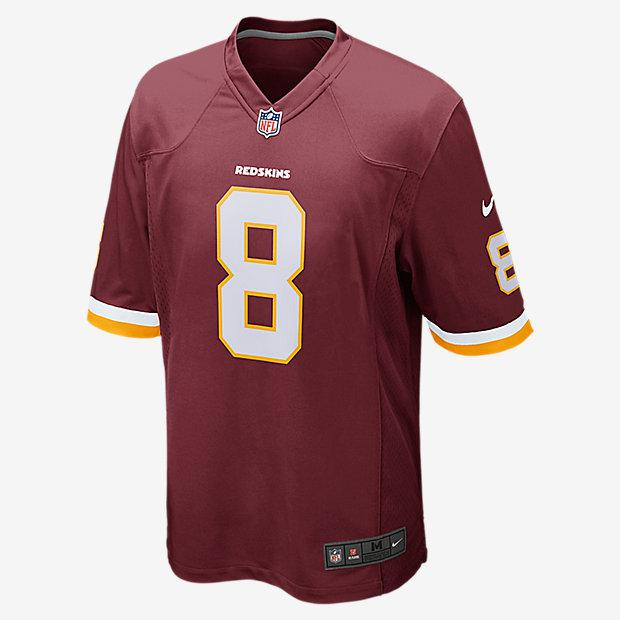teeshirt: (50, 2, 557, 620)
